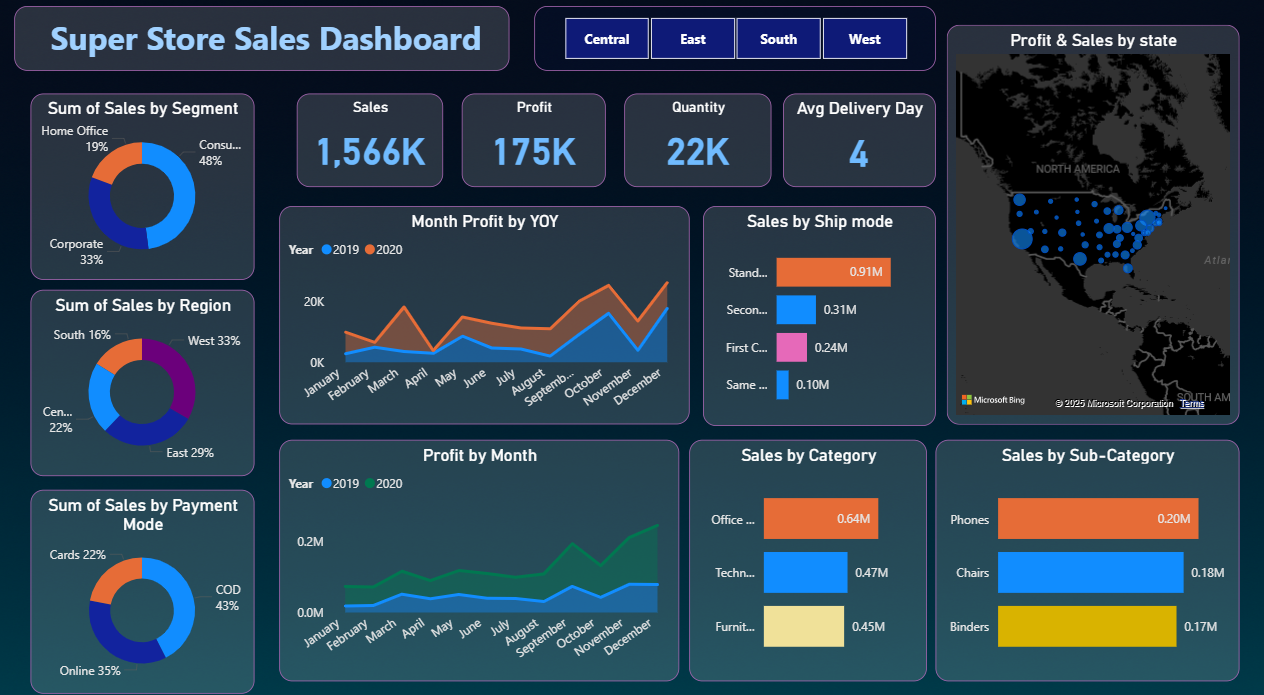

What the dashboard file says about the page in this screenshot:
{"tool":"powerbi","page":{"name":"Page 1","canvas":[1280,720],"ordinal":0},"visuals":[{"type":"clusteredBarChart","title":" Sales by Category","fields":{"Category":["SuperStore_Sales_Dataset (1).Category"],"Y":["Sum(SuperStore_Sales_Dataset (1).Sales)"]},"box":[696.2,448.8,237.5,241.2],"z":0},{"type":"clusteredBarChart","title":" Sales by Sub-Category","fields":{"Y":["Sum(SuperStore_Sales_Dataset (1).Sales)"],"Category":["SuperStore_Sales_Dataset (1).Sub-Category"]},"box":[942.5,448.8,303.8,241.2],"z":1000},{"type":"clusteredBarChart","title":" Sales by Ship mode","fields":{"Y":["Sum(SuperStore_Sales_Dataset (1).Sales)"],"Category":["SuperStore_Sales_Dataset (1).Ship Mode"]},"box":[710,215,232.5,220],"z":2000},{"type":"stackedAreaChart","title":"Profit by Month","fields":{"Y":["Sum(SuperStore_Sales_Dataset (1).Sales)"],"Category":["SuperStore_Sales_Dataset (1).Order Date.Variation.Date Hierarchy.Month","SuperStore_Sales_Dataset (1).Order Date.Variation.Date Hierarchy.Day"],"Series":["SuperStore_Sales_Dataset (1).Order Date.Variation.Date Hierarchy.Year"]},"box":[286.2,448.8,400,241.2],"z":3000},{"type":"stackedAreaChart","title":" Month Profit by YOY","fields":{"Y":["Sum(SuperStore_Sales_Dataset (1).Profit)"],"Category":["SuperStore_Sales_Dataset (1).Order Date.Variation.Date Hierarchy.Month","SuperStore_Sales_Dataset (1).Order Date.Variation.Date Hierarchy.Day"],"Series":["SuperStore_Sales_Dataset (1).Order Date.Variation.Date Hierarchy.Year"]},"box":[286.2,215,410,218.8],"z":4000},{"type":"map","title":"Profit & Sales by state","fields":{"Category":["SuperStore_Sales_Dataset (1).State"],"Size":["Sum(SuperStore_Sales_Dataset (1).Sales)"]},"box":[953.8,33.8,292.5,400],"z":5000},{"type":"donutChart","fields":{"Category":["SuperStore_Sales_Dataset (1).Segment"],"Y":["Sum(SuperStore_Sales_Dataset (1).Sales)"]},"box":[37.5,102.5,223.8,186.2],"z":6000},{"type":"donutChart","fields":{"Y":["Sum(SuperStore_Sales_Dataset (1).Sales)"],"Category":["SuperStore_Sales_Dataset (1).Payment Mode"]},"box":[37.5,498.8,223.8,203.8],"z":7000},{"type":"slicer","fields":{"Values":["SuperStore_Sales_Dataset (1).Region"]},"box":[541.2,15,401.2,65],"z":8000},{"type":"textbox","box":[21.2,15,495,65],"z":9000},{"type":"card","title":"Sales","fields":{"Values":["Sum(SuperStore_Sales_Dataset (1).Sales)"]},"box":[303.8,102.5,146.2,93.8],"z":10000},{"type":"card","title":"Profit","fields":{"Values":["Sum(SuperStore_Sales_Dataset (1).Profit)"]},"box":[468.8,102.5,143.8,93.8],"z":11000},{"type":"card","title":"Quantity","fields":{"Values":["Sum(SuperStore_Sales_Dataset (1).Quantity)"]},"box":[631.2,102.5,147.5,93.8],"z":12000},{"type":"card","title":"Avg Delivery Day","fields":{"Values":["Avg(SuperStore_Sales_Dataset (1).AvgDelivery)"]},"box":[790,102.5,152.5,93.8],"z":13000},{"type":"donutChart","fields":{"Y":["Sum(SuperStore_Sales_Dataset (1).Sales)"],"Category":["SuperStore_Sales_Dataset (1).Region"]},"box":[37.5,298.8,223.8,186.2],"z":14000}]}

Visuals, with their boxes in screenshot pixels (x1, y1, x2, y2), scaled from the page's 1280x720 canvas onto the 1264x695 screenshot:
" Sales by Category" clusteredBarChart: bbox=[687, 433, 922, 666]
" Sales by Sub-Category" clusteredBarChart: bbox=[931, 433, 1231, 666]
" Sales by Ship mode" clusteredBarChart: bbox=[701, 208, 931, 420]
"Profit by Month" stackedAreaChart: bbox=[283, 433, 678, 666]
" Month Profit by YOY" stackedAreaChart: bbox=[283, 208, 687, 419]
"Profit & Sales by state" map: bbox=[942, 33, 1231, 419]
donutChart - SuperStore_Sales_Dataset (1).Segment x Sum(SuperStore_Sales_Dataset (1).Sales): bbox=[37, 99, 258, 279]
donutChart - Sum(SuperStore_Sales_Dataset (1).Sales) x SuperStore_Sales_Dataset (1).Payment Mode: bbox=[37, 481, 258, 678]
slicer - SuperStore_Sales_Dataset (1).Region: bbox=[534, 14, 931, 77]
textbox: bbox=[21, 14, 510, 77]
"Sales" card: bbox=[300, 99, 444, 189]
"Profit" card: bbox=[463, 99, 605, 189]
"Quantity" card: bbox=[623, 99, 769, 189]
"Avg Delivery Day" card: bbox=[780, 99, 931, 189]
donutChart - Sum(SuperStore_Sales_Dataset (1).Sales) x SuperStore_Sales_Dataset (1).Region: bbox=[37, 288, 258, 468]
